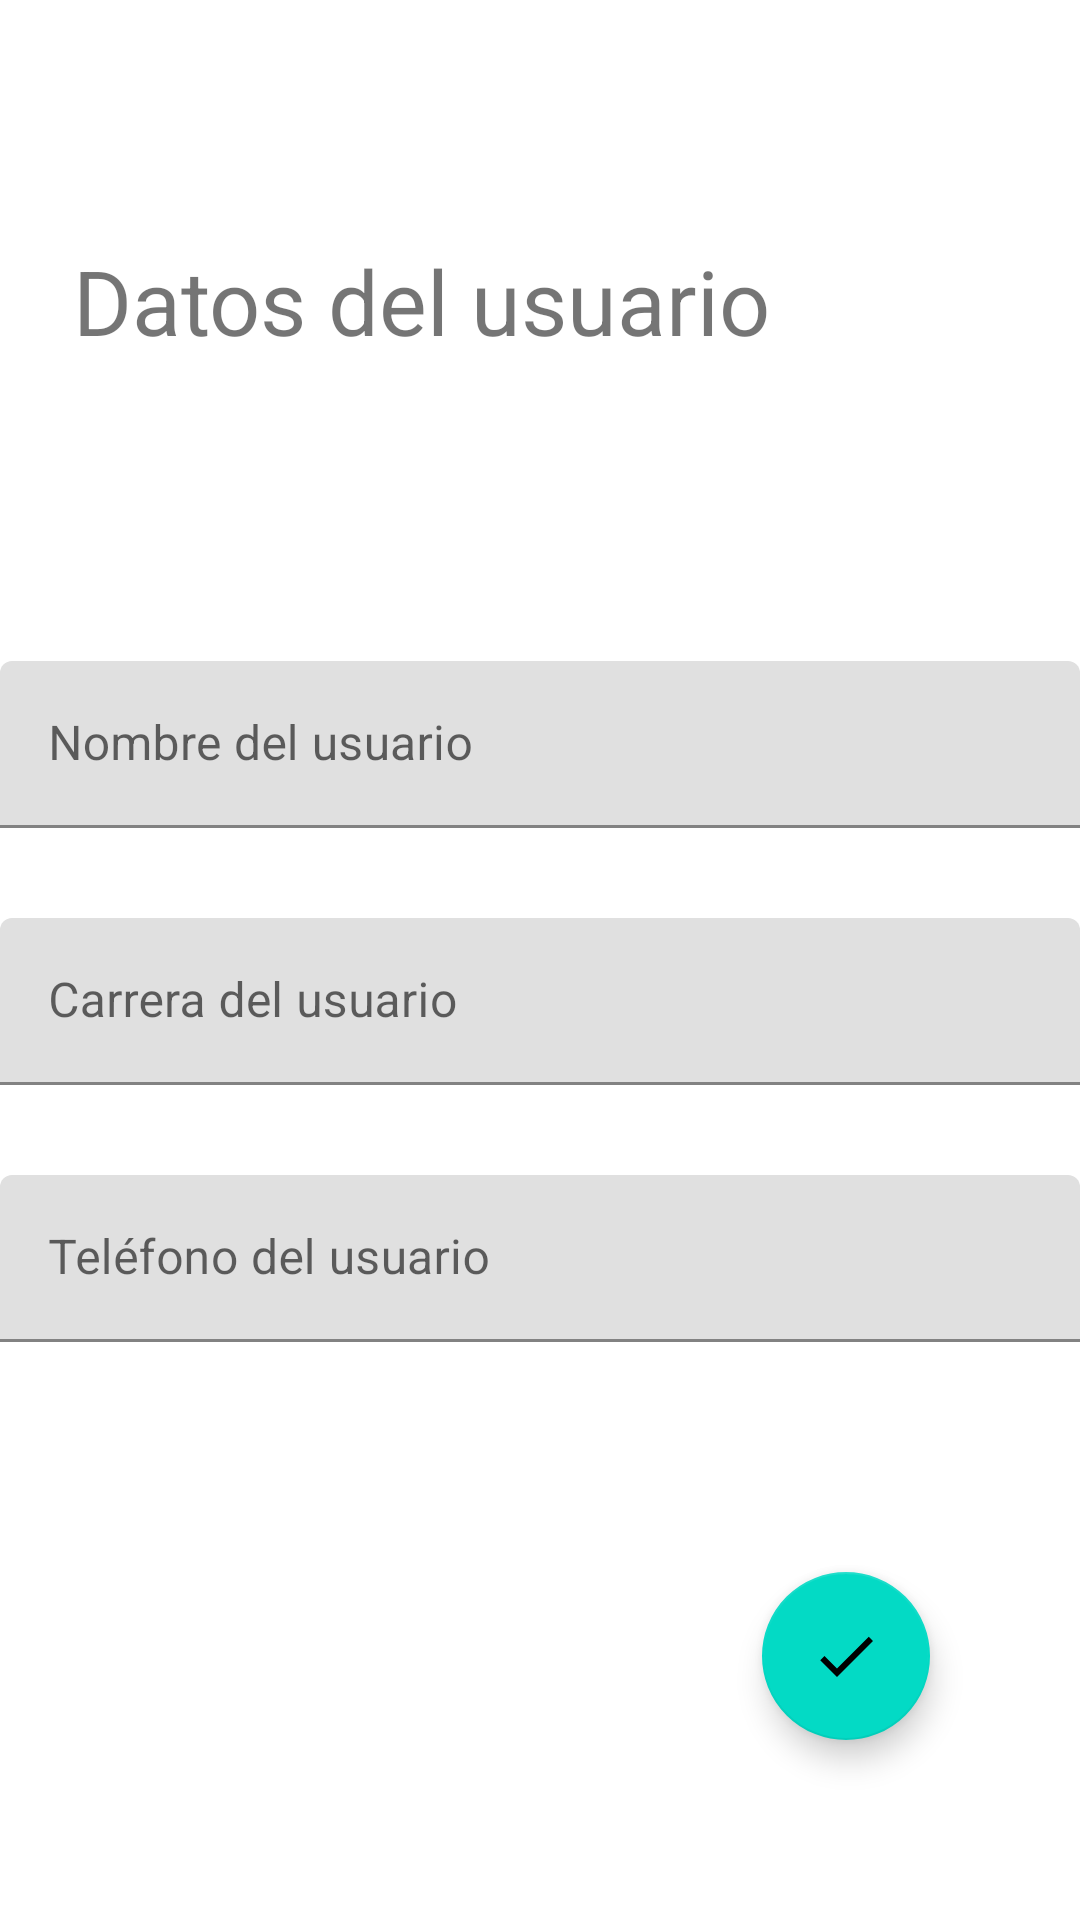

Where to tap for icons on this 1080 × 1920 app screen, as point (x, y):
check: point (846, 1656)
